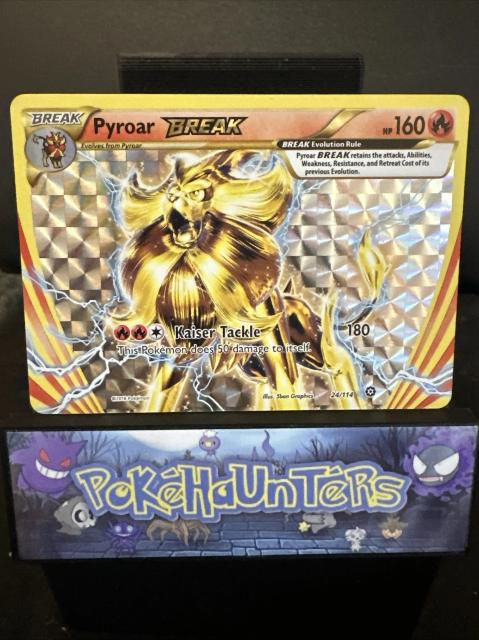Card: (5, 90, 473, 419)
Name: (89, 110, 255, 143)
